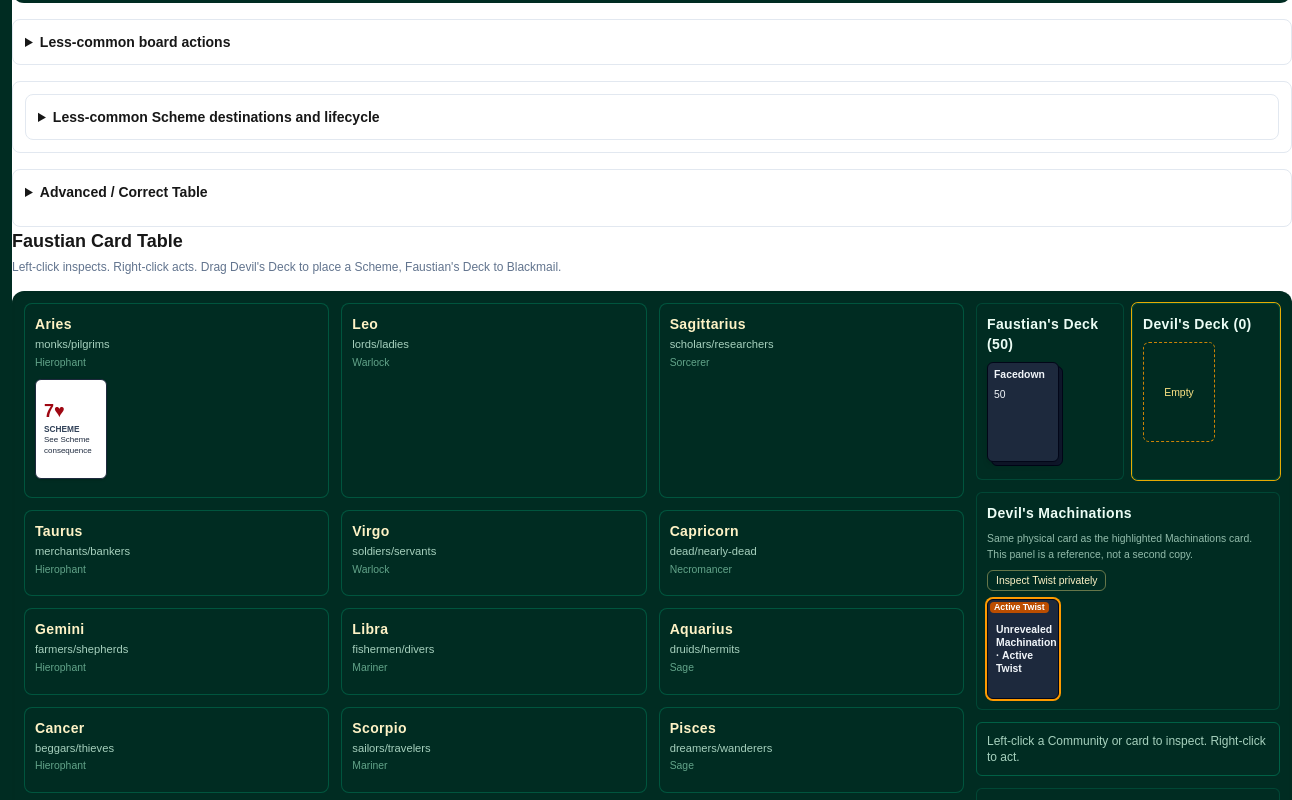
Test case: contextual Community actions › surfaces Blackmail prevention as a Devil's Deck cue instead of a silent vanish
This screenshot has width=1292, height=800.
(page scrolled)
Right-click the element named "Aries · monks/pilgrims · Hierophant".
right_click(177, 401)  # box [24,303,329,498]
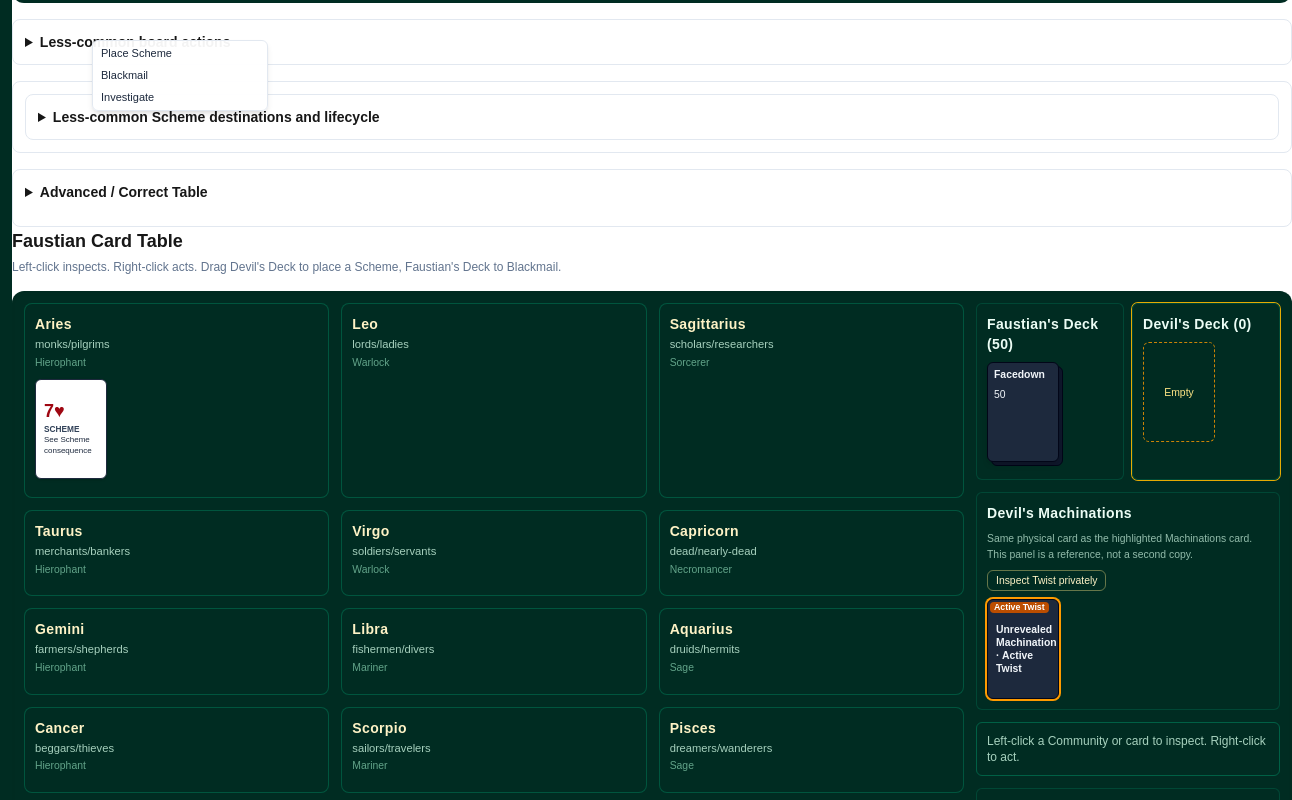
Click the menu item "Blackmail".
click(180, 76)  # box [93,65,267,87]
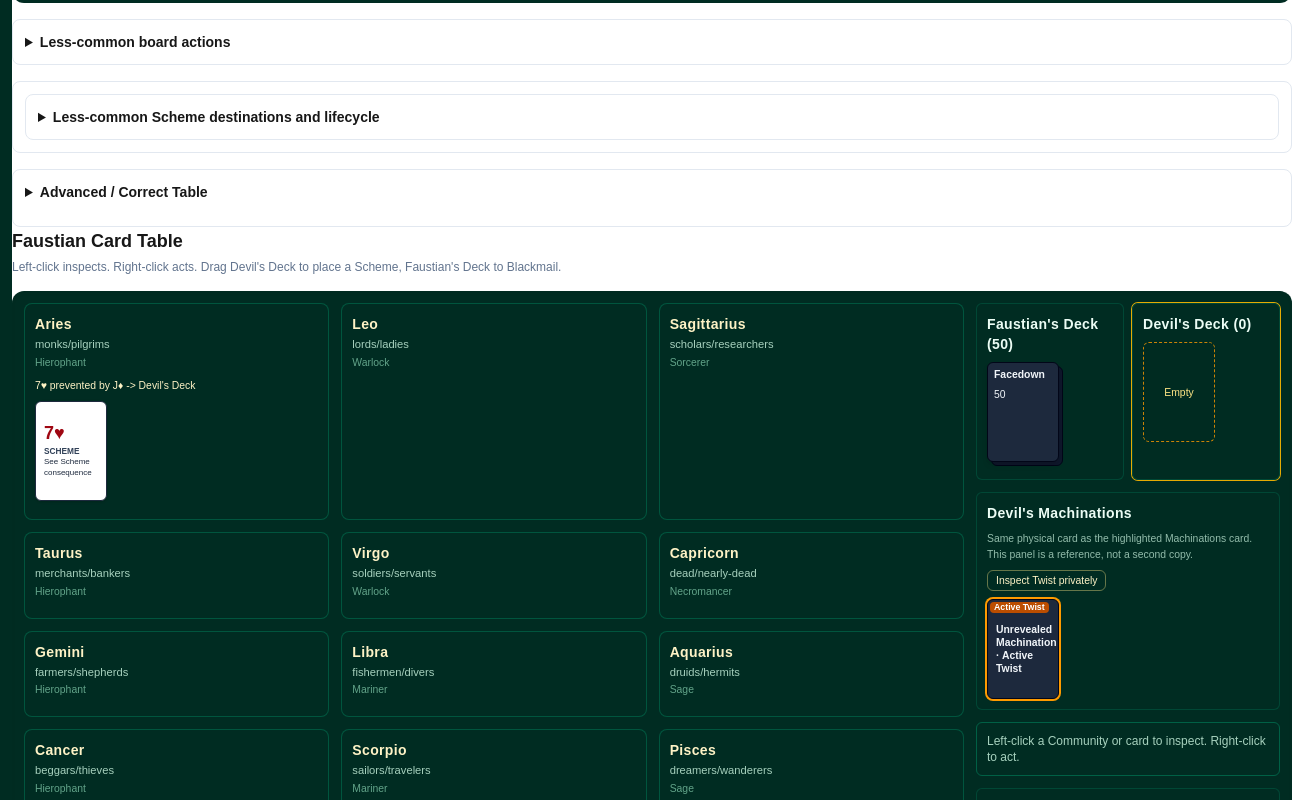
Expected: the text "7♥ prevented by J♦ -> Devil's Deck" is shown, [35,380,195,391]
